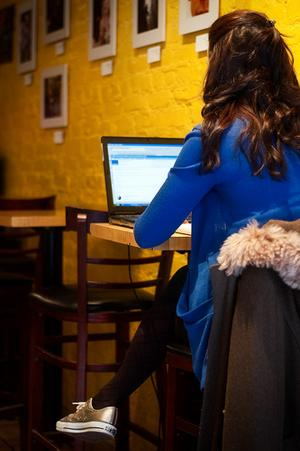person: (56, 10, 300, 437)
